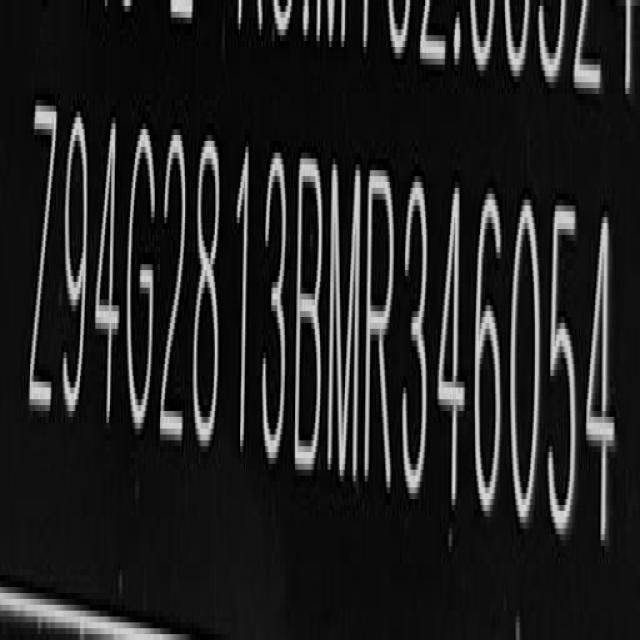0: (508, 200, 542, 537)
1: (230, 133, 252, 465)
2: (157, 117, 187, 457)
3: (402, 165, 429, 509), (259, 139, 287, 468)
4: (585, 205, 620, 552), (436, 174, 467, 513), (95, 106, 126, 442)
5: (546, 196, 581, 546)
6: (472, 192, 505, 518)
8: (194, 130, 224, 452)
9: (62, 100, 90, 446)
B: (293, 152, 324, 474)
G: (124, 116, 157, 442)
M: (329, 152, 360, 487)
R: (365, 150, 394, 498)
Z: (27, 89, 57, 429)
